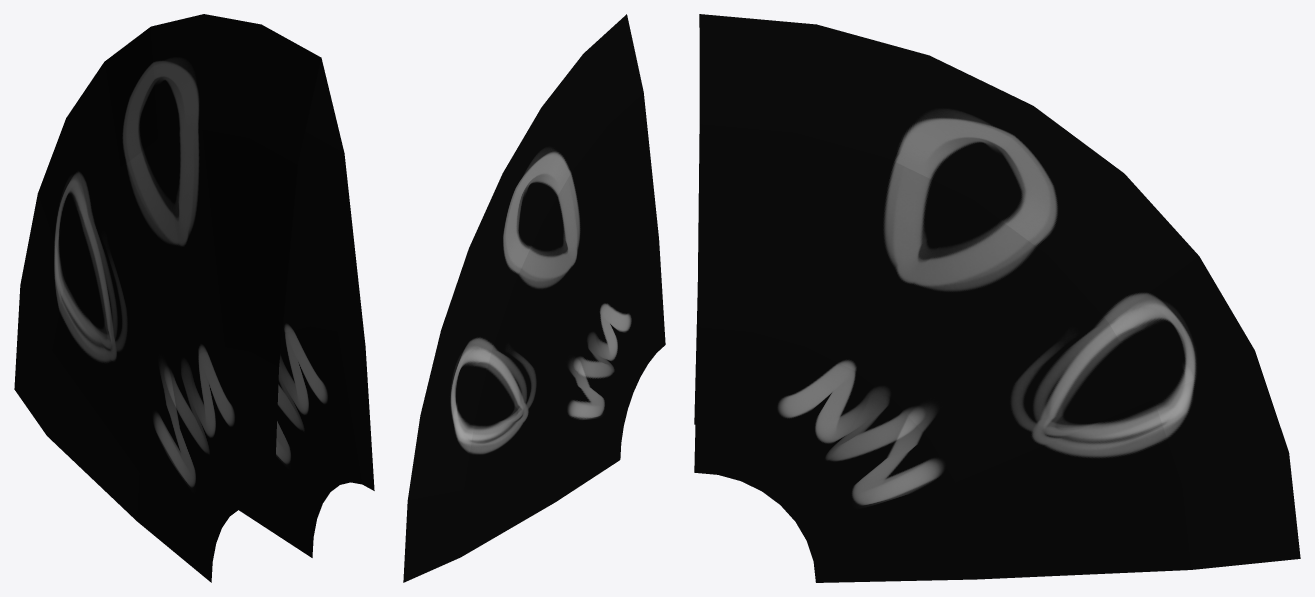
Rendered from Sword_Ego_R01_MIrror.fbx.
The picture shows the model from 3 angles, left to right: view 1: azimuth 30°, elevation 25°; view 2: azimuth 150°, elevation 25°; view 3: azimuth 270°, elevation 25°; orthographic projection. The views are drawn at different scales.
Visible parts, largest first — view 1: Cylinder.005; view 2: Cylinder.005; view 3: Cylinder.005.
Part boxes in pixels (x1,y1,x2,y2): Cylinder.005: (14, 14, 374, 582); Cylinder.005: (403, 14, 665, 582); Cylinder.005: (694, 14, 1300, 582).
Size of the model in its own units: 101 by 18.98 by 100.
